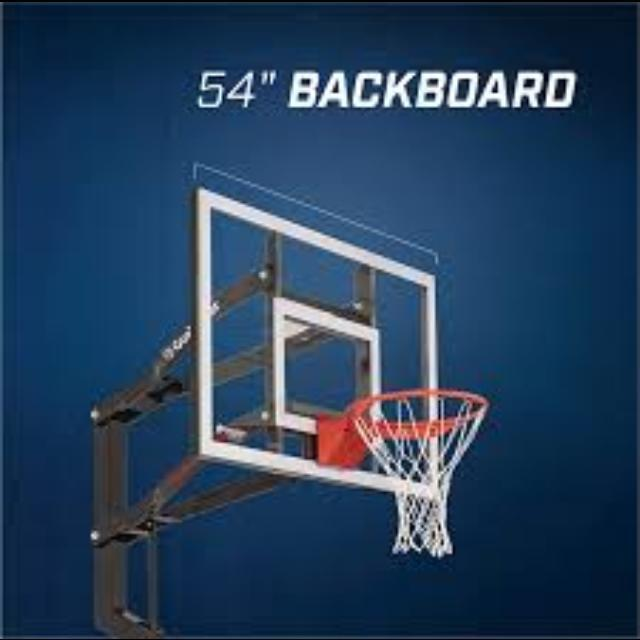rim: (352, 388, 486, 554)
